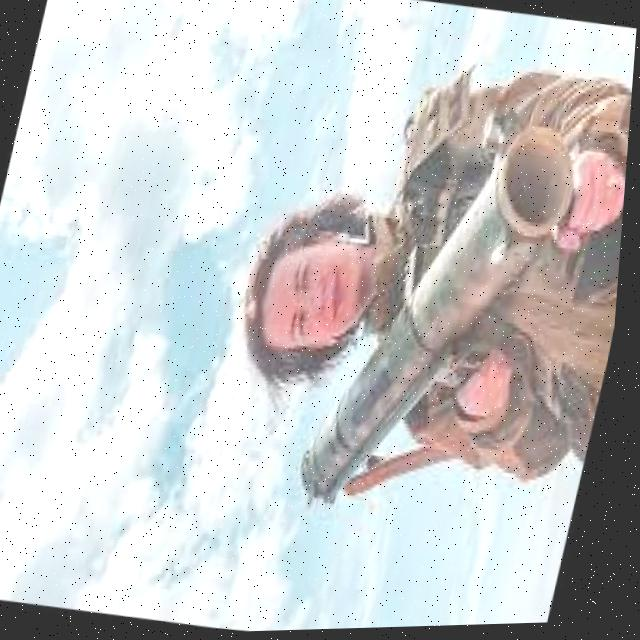rocket: (291, 106, 588, 535)
